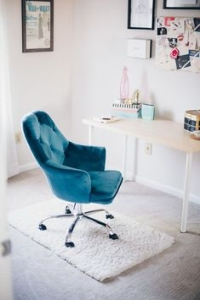chair: (21, 111, 123, 248)
